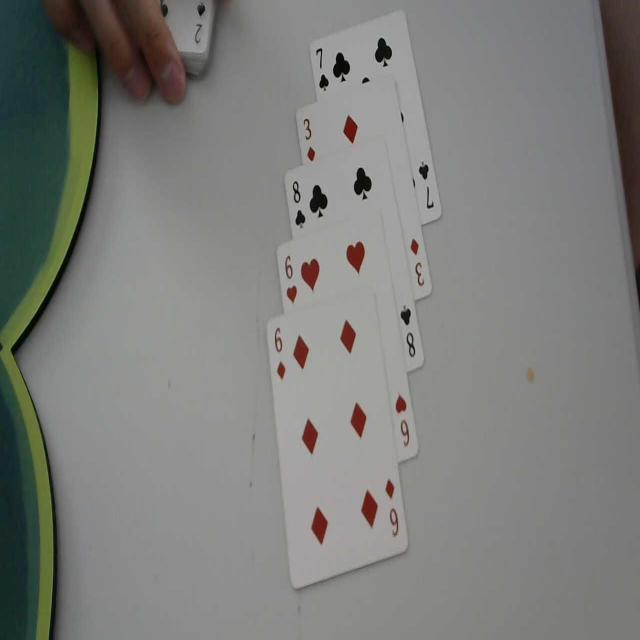2S: (186, 0, 208, 49)
3D: (406, 232, 425, 292), (299, 114, 319, 167)
6D: (384, 467, 399, 541), (273, 323, 289, 385)
6H: (393, 390, 412, 454), (281, 250, 299, 306)
7C: (416, 158, 436, 215), (313, 42, 331, 100)
8C: (398, 301, 417, 362), (291, 173, 307, 230)
